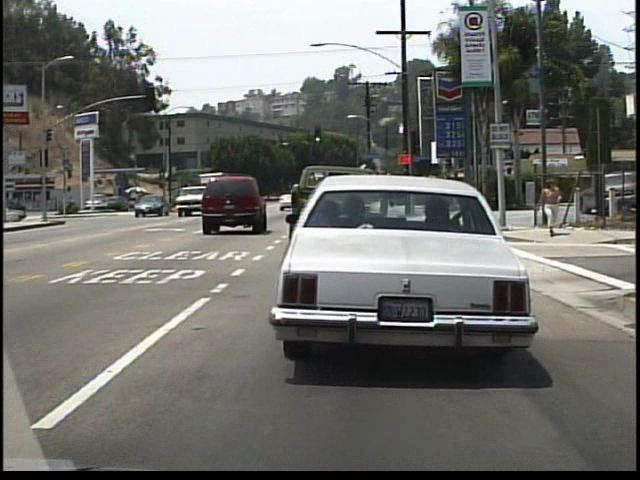person: (541, 177, 562, 239)
